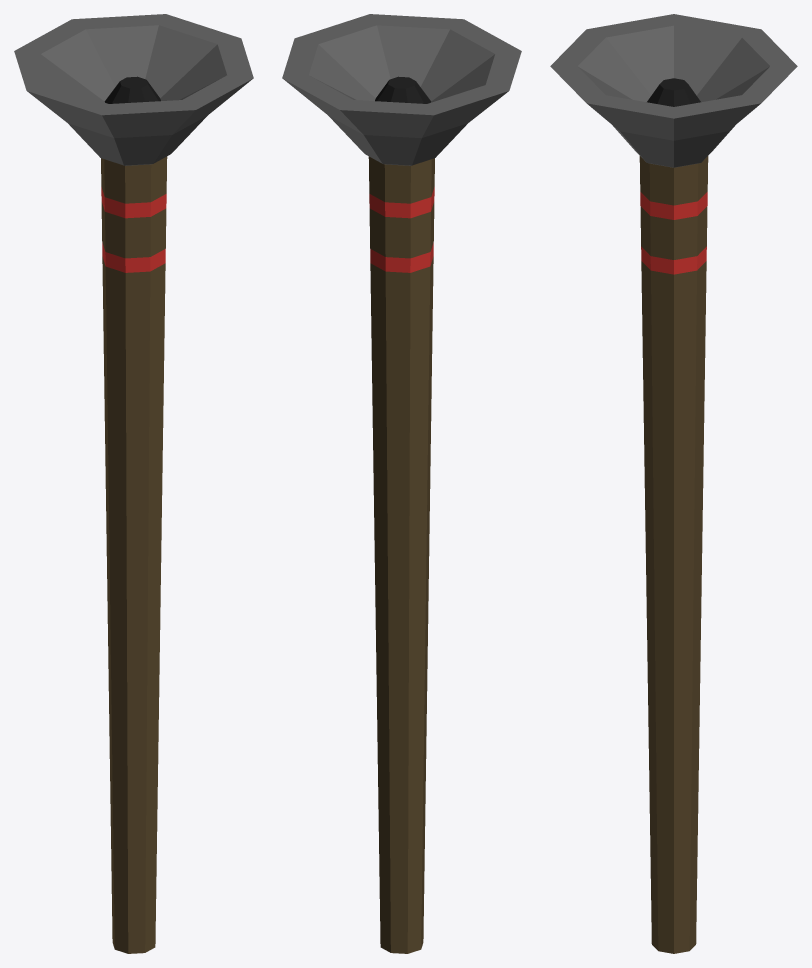
File: AntorchaDePie.fbx
The picture shows the model from 3 angles, left to right: view 1: azimuth 30°, elevation 25°; view 2: azimuth 150°, elevation 25°; view 3: azimuth 270°, elevation 25°; orthographic projection.
Parts seen in each view (by area): view 1: Cylinder; view 2: Cylinder; view 3: Cylinder.
Boxes of the visible parts, x1,y1,x2,y2 form: Cylinder: (14, 14, 253, 953); Cylinder: (282, 14, 521, 953); Cylinder: (550, 14, 797, 953).
Bounding box in the file's own units: 17.95 × 70.26 × 17.95.
